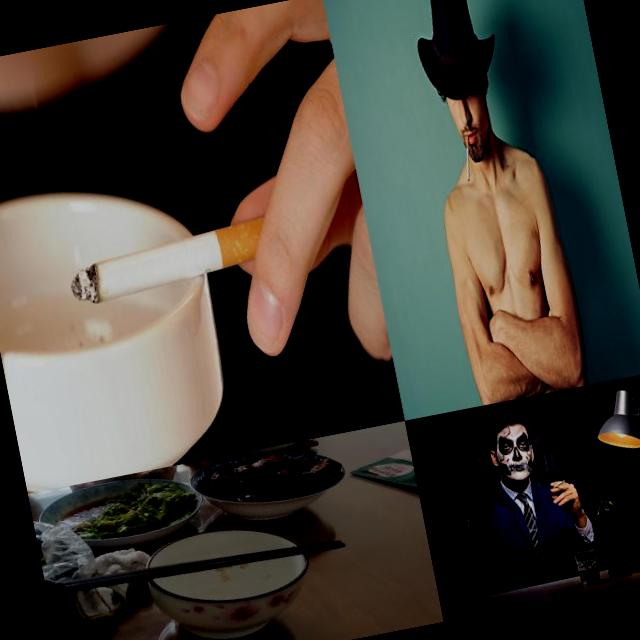smoke: (55, 202, 312, 336), (458, 132, 477, 182), (549, 480, 567, 490)
